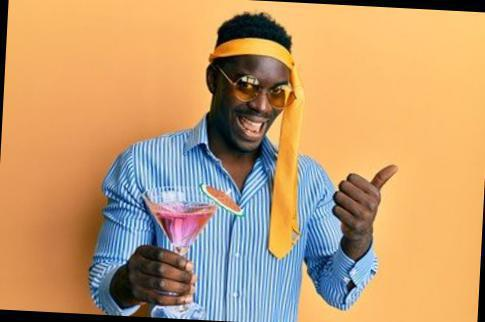Drunk: (227, 64, 283, 146)
